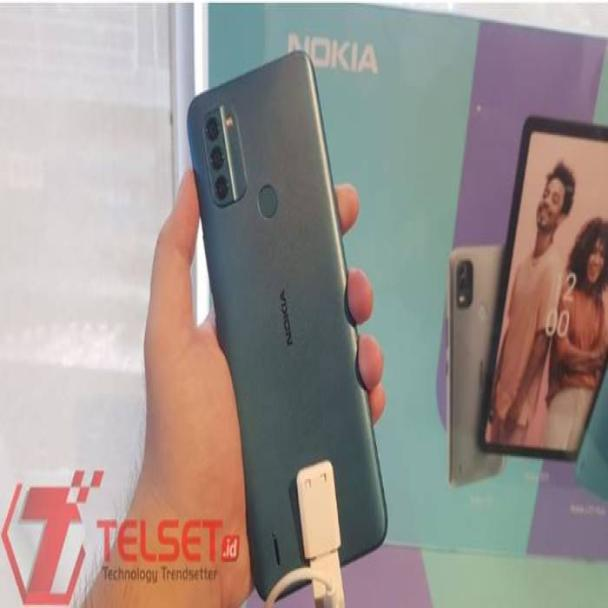Handphone: (181, 44, 384, 590)
